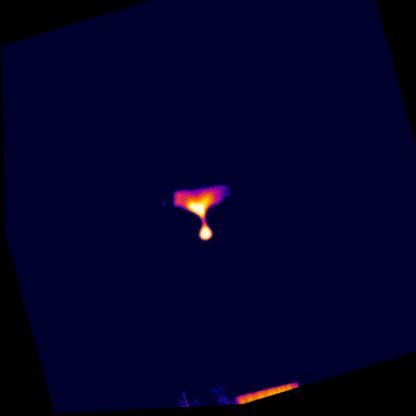drone: (167, 176, 238, 248)
